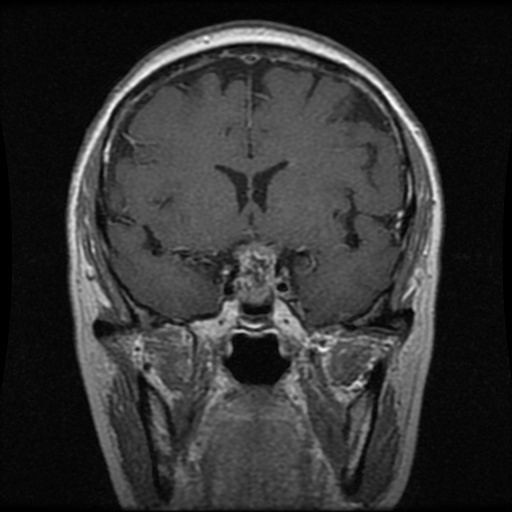pituitary: (233, 245, 277, 304)
